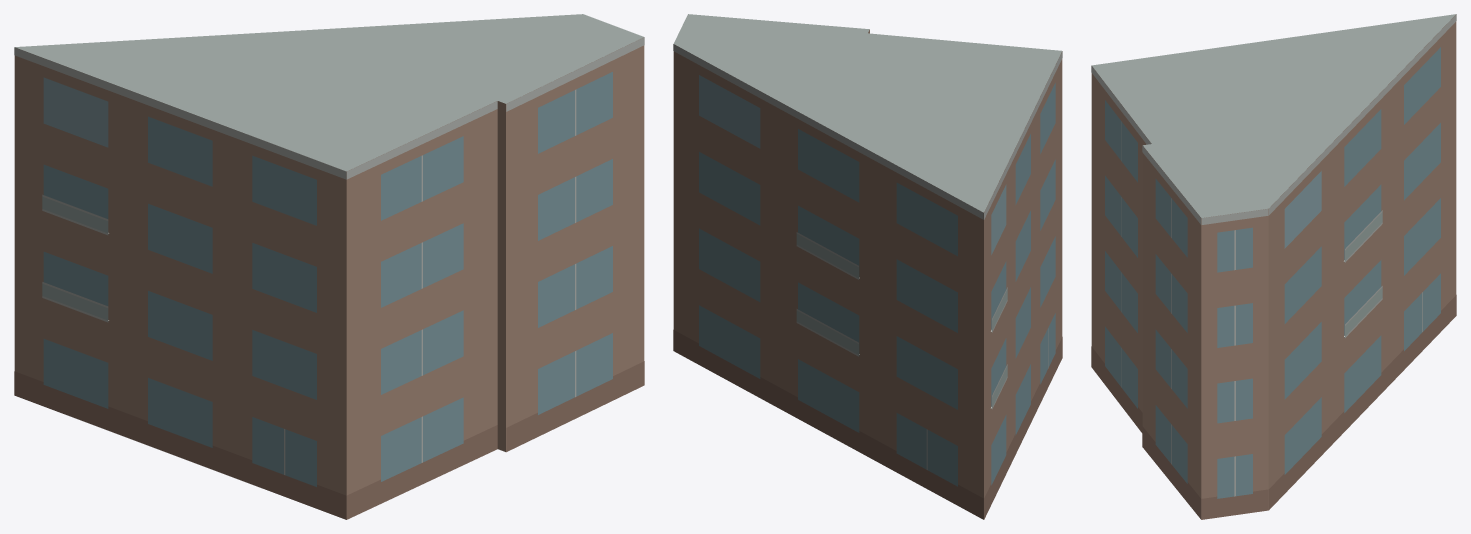
The model's file is survey-upis-32529626.glb.
3 renders of one model, left to right at view 1: azimuth 30°, elevation 25°; view 2: azimuth 150°, elevation 25°; view 3: azimuth 270°, elevation 25°, orthographic. The views are drawn at different scales.
Visible parts, largest first — view 1: survey-upis-32529626.tmp; view 2: survey-upis-32529626.tmp; view 3: survey-upis-32529626.tmp.
Boxes of the visible parts, x1,y1,x2,y2 form: survey-upis-32529626.tmp: (14, 14, 644, 519); survey-upis-32529626.tmp: (673, 14, 1062, 519); survey-upis-32529626.tmp: (1091, 14, 1456, 519).
Bounding box in the file's own units: 15.1 × 10.4 × 11.4.
